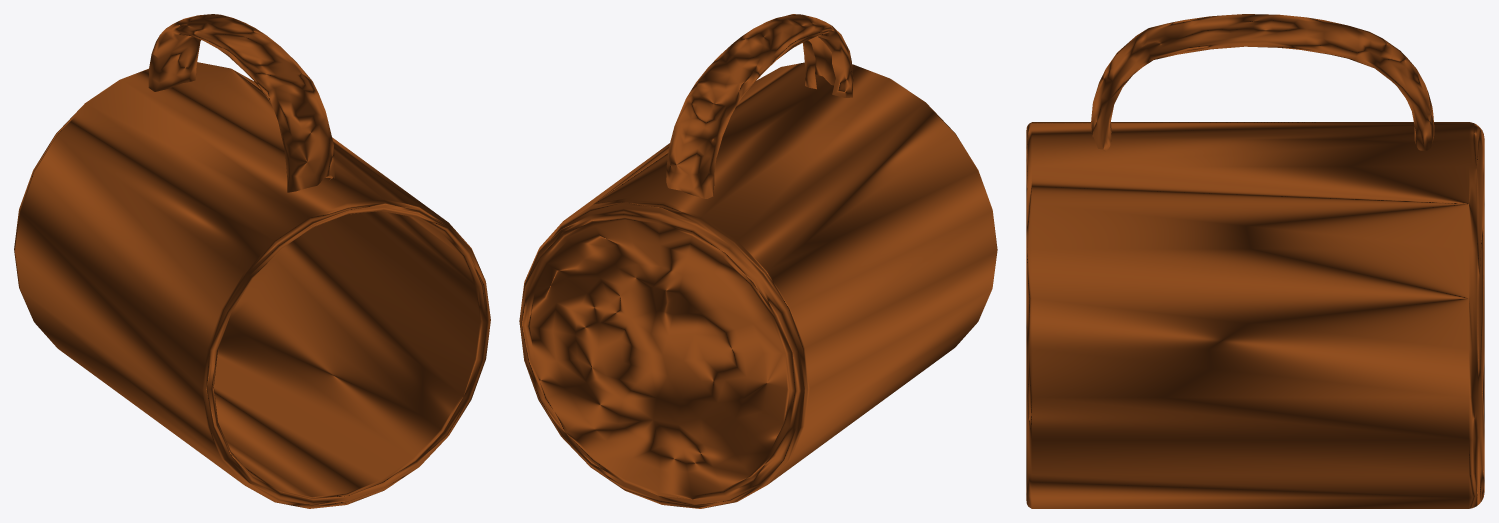
The model's file is model_align.obj.
3 views of the same model, side by side, from view 1: azimuth 30°, elevation 25°; view 2: azimuth 150°, elevation 25°; view 3: azimuth 270°, elevation 25° (orthographic). The views are drawn at different scales.
Size of the model in its own units: 0.0861 by 0.1141 by 0.1016.
